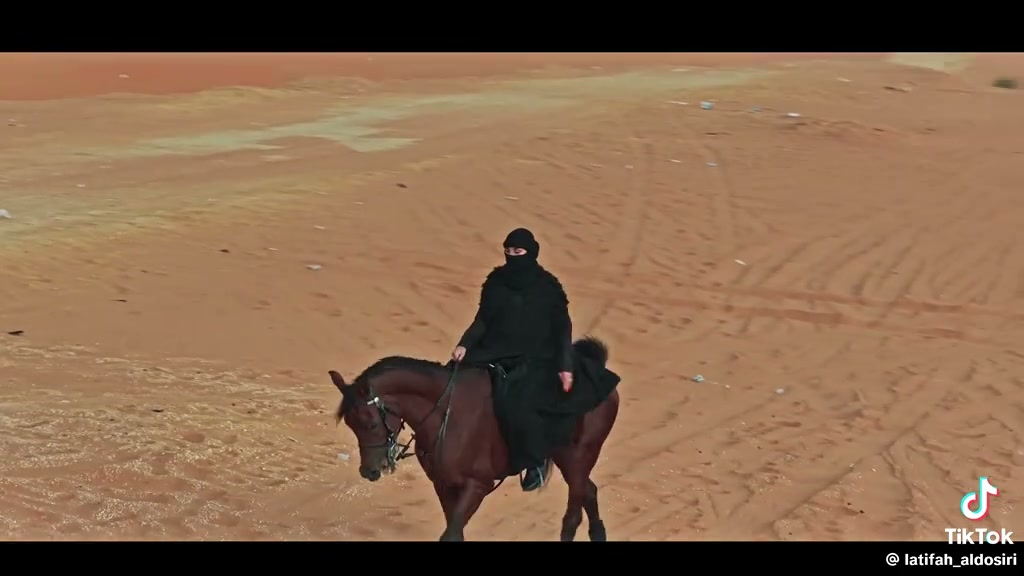animal: (329, 356, 507, 540)
human: (451, 228, 573, 491)
vehicle_track: (594, 126, 1023, 542)
